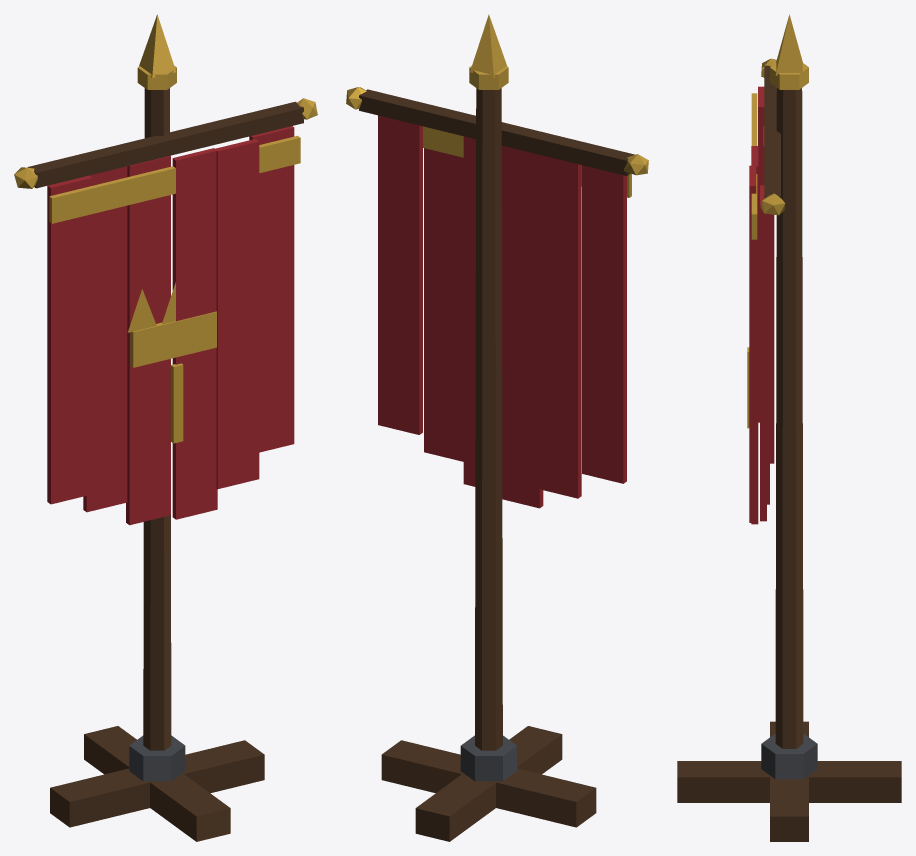
Rendered from banner_stand.glb.
3 views of the same model, side by side, from view 1: azimuth 30°, elevation 25°; view 2: azimuth 150°, elevation 25°; view 3: azimuth 270°, elevation 25° (orthographic).
Parts seen in each view (by area): view 1: banner_stand; view 2: banner_stand; view 3: banner_stand.
Part boxes in pixels (<box>): banner_stand: <box>14,14,317,841</box>; banner_stand: <box>346,14,648,841</box>; banner_stand: <box>677,14,901,841</box>.
Bounding box in the file's own units: 1.23 × 3.07 × 0.8.
